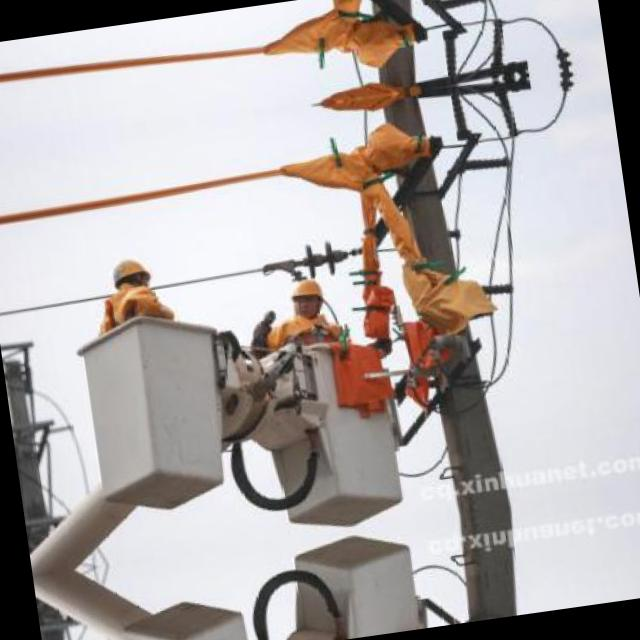helmet: (106, 252, 156, 302), (281, 272, 330, 322)
